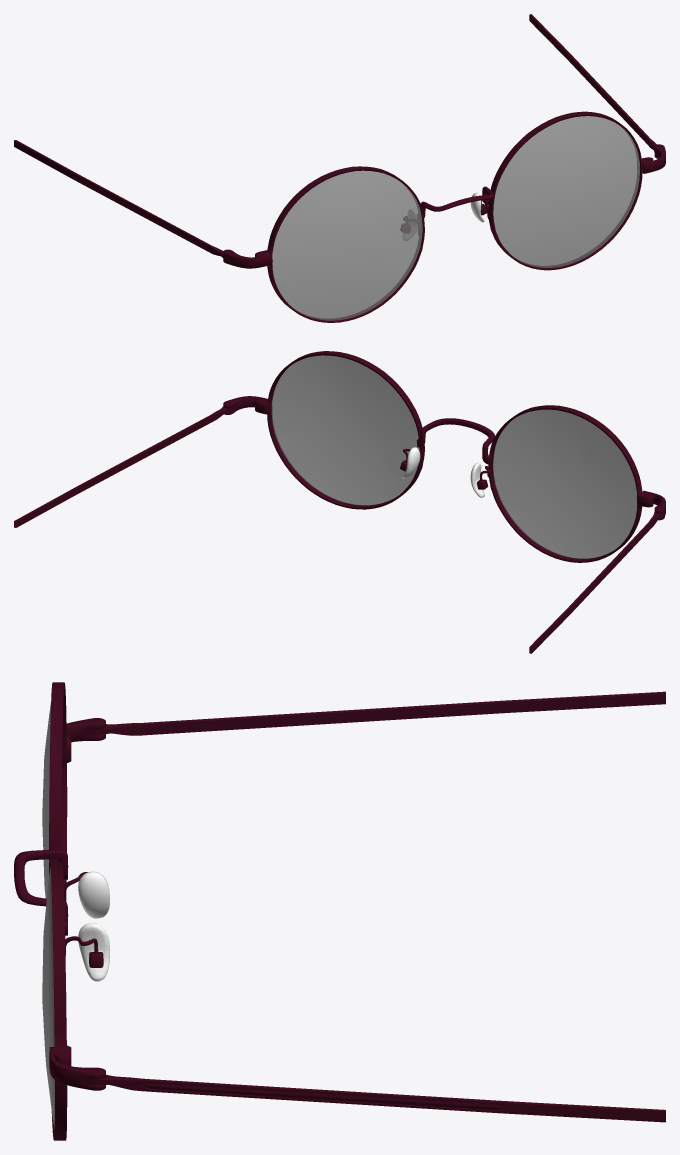
3 renders of one model, top to bottom at view 1: azimuth 30°, elevation 25°; view 2: azimuth 150°, elevation 25°; view 3: azimuth 270°, elevation 25°, orthographic. The views are drawn at different scales.
Parts seen in each view (by area): view 1: Group001, Box008, Box007, Box009, Box012, Box011; view 2: Group001, Box011, Box012, Box013, Box007; view 3: Group001, Box011, Box007, Box013, Box009, Box012, Box008, Rectangle001, Box006.
Boxes of the visible parts, box(x1,y1,x2,y2) form: Group001: box(255, 111, 653, 322); Box008: box(198, 239, 272, 268); Box007: box(52, 161, 130, 208); Box009: box(128, 202, 199, 246); Box012: box(641, 131, 665, 173); Box011: box(554, 39, 601, 93); Group001: box(255, 351, 653, 562); Box011: box(53, 458, 130, 506); Box012: box(199, 396, 267, 427); Box013: box(129, 421, 200, 465); Box007: box(554, 573, 602, 628); Group001: box(14, 682, 109, 1140); Box011: box(357, 1092, 560, 1116); Box007: box(357, 697, 560, 721); Box013: box(172, 1080, 357, 1104); Box009: box(172, 709, 357, 733); Box012: box(49, 1047, 172, 1092); Box008: box(66, 718, 172, 742); Rectangle001: box(560, 1104, 665, 1122); Box006: box(560, 691, 665, 709).
Bounding box in the file's own units: 18.57 × 5.16 × 12.18.
